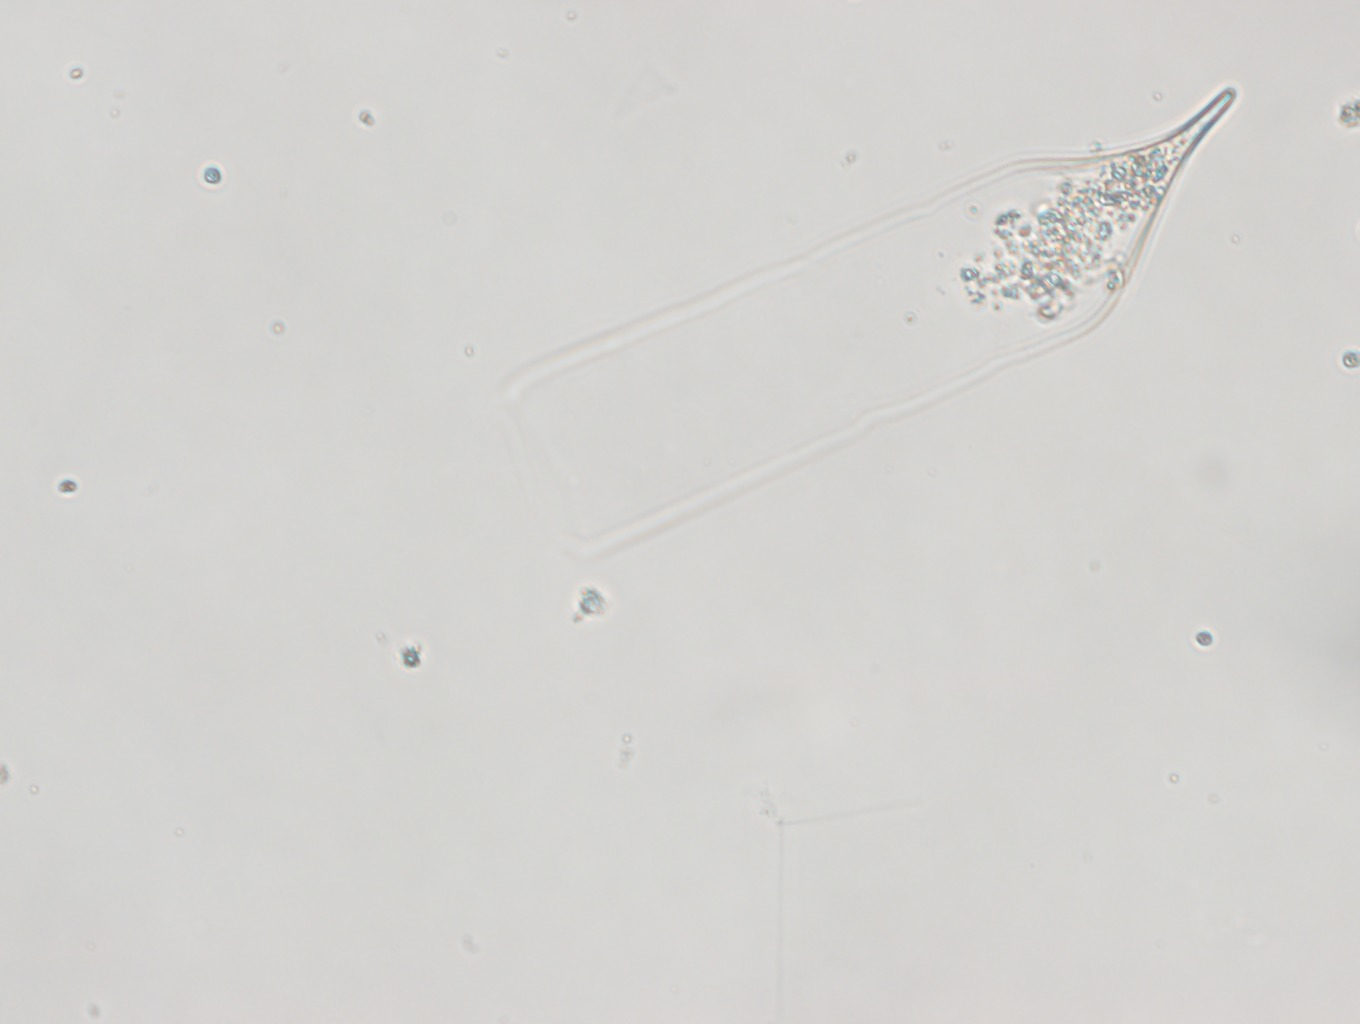rhizosolenia: (495, 80, 1239, 560)
